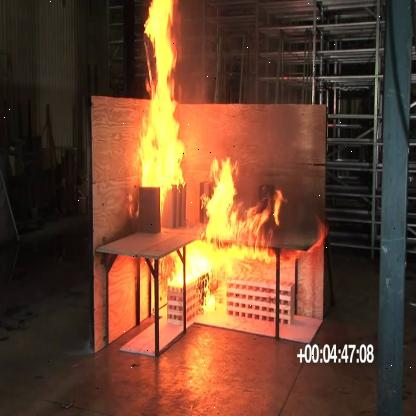fire: (162, 157, 288, 324), (132, 3, 186, 201)
